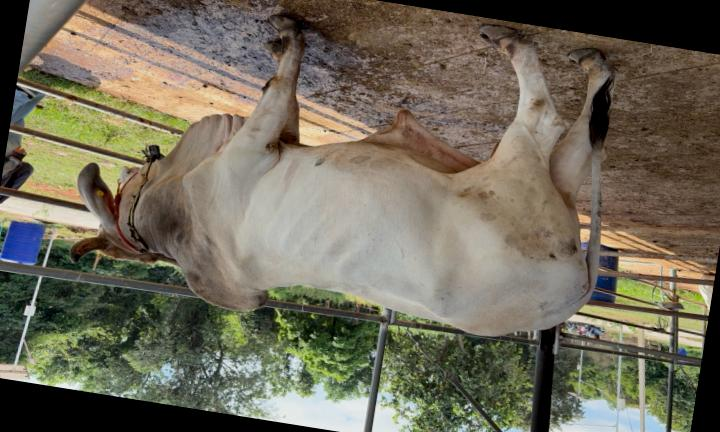Brahman: (70, 15, 617, 335)
